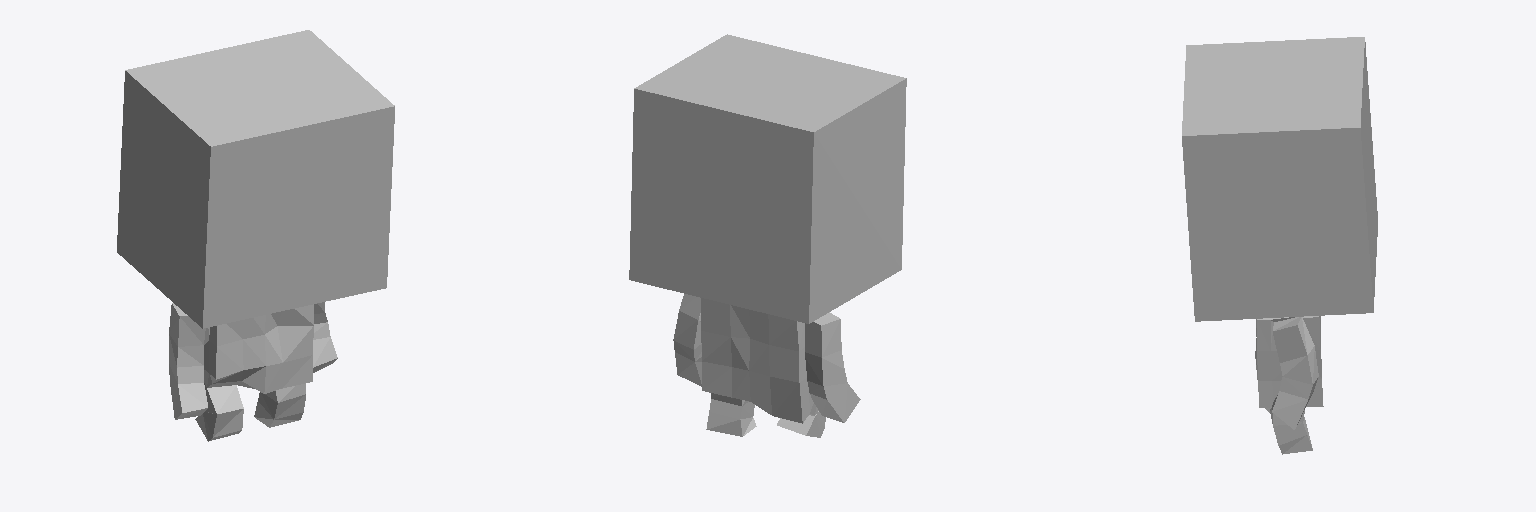
The model's file is boxman-animation-hodba_000013.obj.
3 views of the same model, side by side, from view 1: azimuth 30°, elevation 25°; view 2: azimuth 150°, elevation 25°; view 3: azimuth 270°, elevation 25° (orthographic).
Parts seen in each view (by area): view 1: Cube; view 2: Cube; view 3: Cube.
Boxes of the visible parts, x1=… form: Cube: x1=117, y1=30, x2=394, y2=441; Cube: x1=629, y1=34, x2=906, y2=437; Cube: x1=1182, y1=37, x2=1377, y2=454.
Bounding box in the file's own units: 2.1 × 3.77 × 1.91.